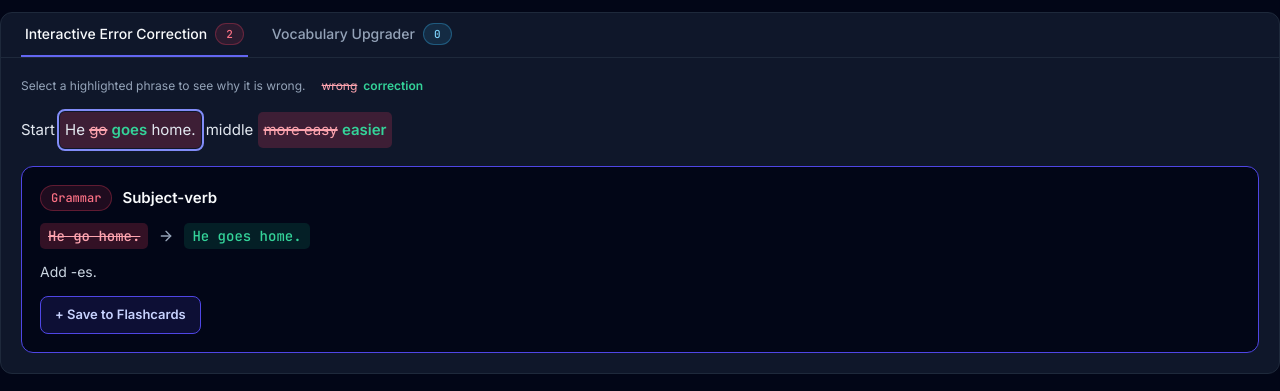
Test case: the grammar explanation panel saves the selected mistake as a GRAMMAR_ERROR card
The width and height of the screenshot is (1280, 391).
Click the button "+ Save to Flashcards" at x=120, y=315, box x1=40 y1=296 x2=201 y2=334
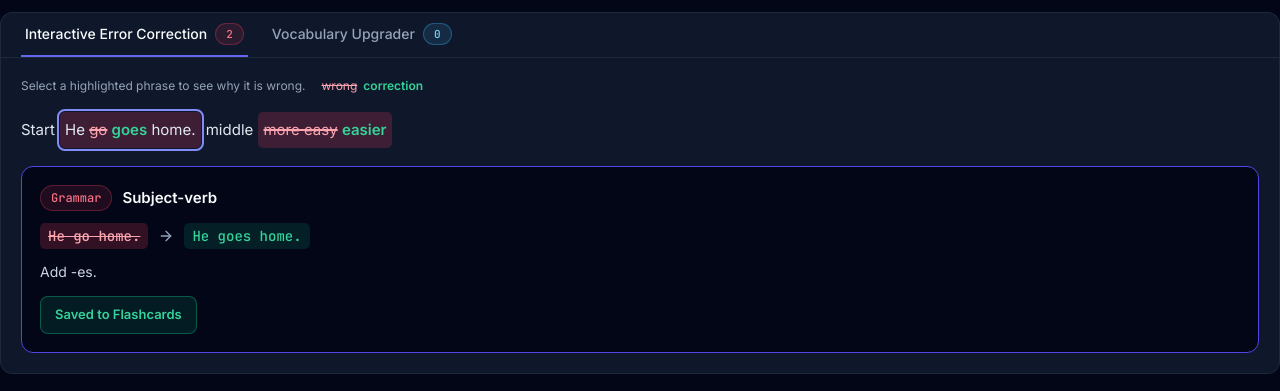
Now the button "Saved to Flashcards" is disabled, box x1=40 y1=296 x2=197 y2=334
